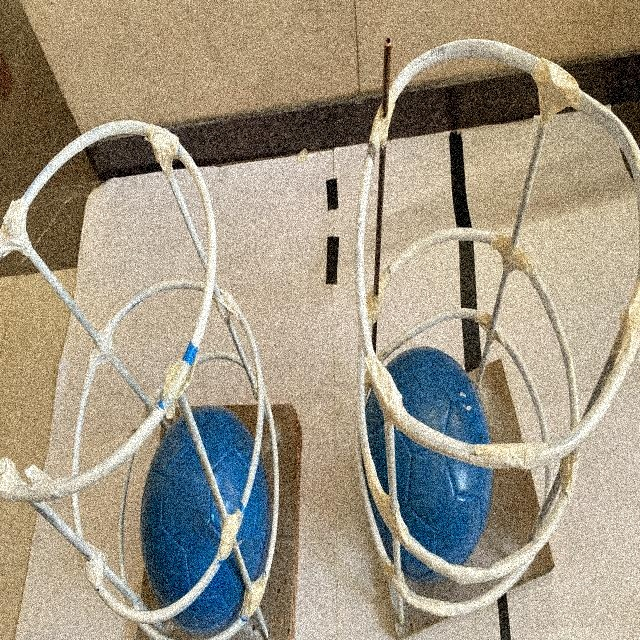blue_ball: (141, 400, 273, 636), (364, 351, 491, 586)
silo: (356, 32, 640, 633), (0, 119, 297, 640)
